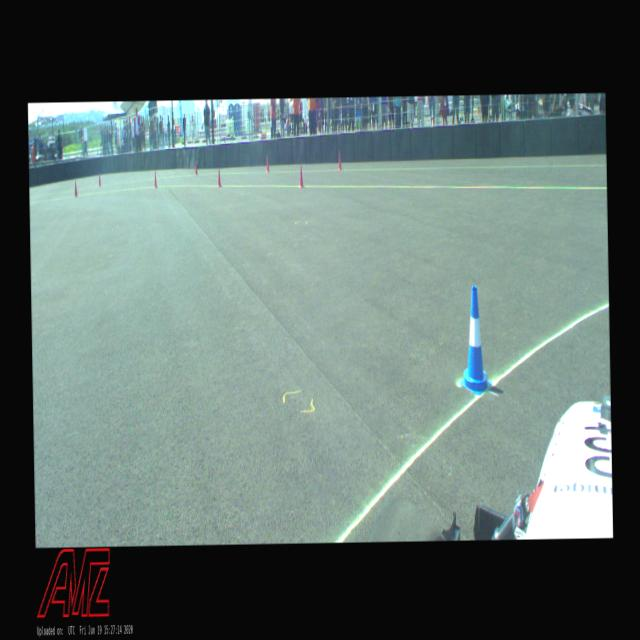blue_cone: (459, 286, 491, 395)
unknown_cone: (216, 167, 222, 187), (299, 167, 303, 187), (74, 180, 77, 197), (266, 156, 269, 172), (195, 160, 198, 173), (338, 153, 340, 170), (154, 172, 156, 188), (98, 173, 100, 186)
